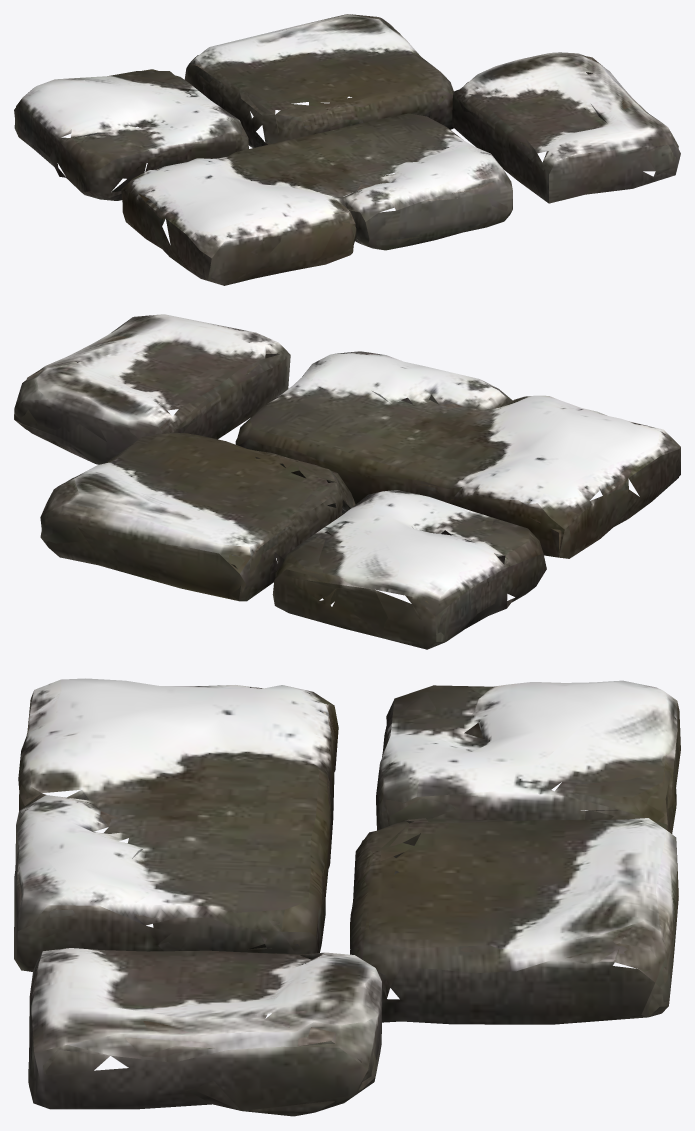
File: stones.glb
The picture shows the model from 3 angles, top to bottom: view 1: azimuth 30°, elevation 25°; view 2: azimuth 150°, elevation 25°; view 3: azimuth 270°, elevation 25°; orthographic projection. The views are drawn at different scales.
Parts seen in each view (by area): view 1: stones; view 2: stones; view 3: stones.
Boxes of the visible parts, box(x1,y1,x2,y2) form: stones: box(14, 14, 680, 285); stones: box(14, 314, 680, 649); stones: box(14, 678, 680, 1116).
Size of the model in its own units: 1.22 by 0.14 by 0.9235.
1 material, 1 textured.
